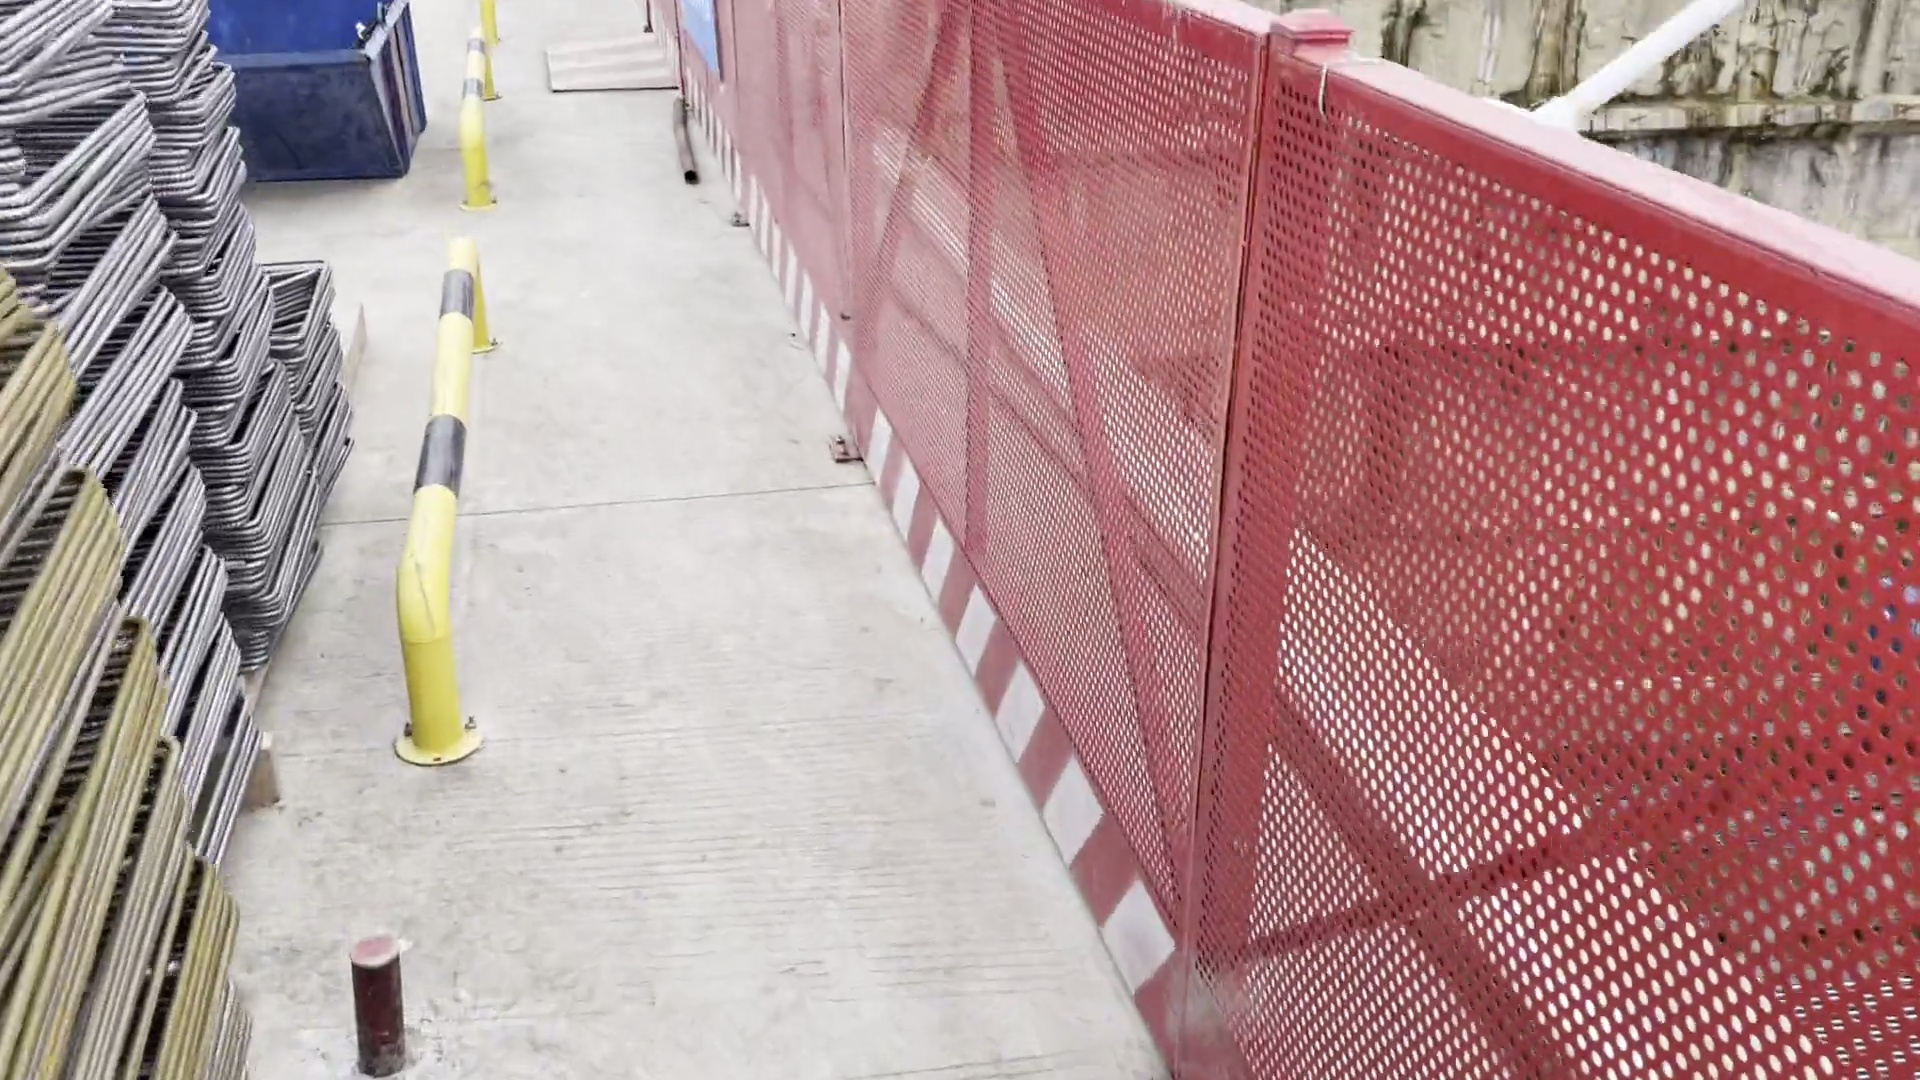fence: (653, 1, 1920, 1080)
hopper: (214, 1, 440, 196)
slogan: (661, 1, 752, 103)
